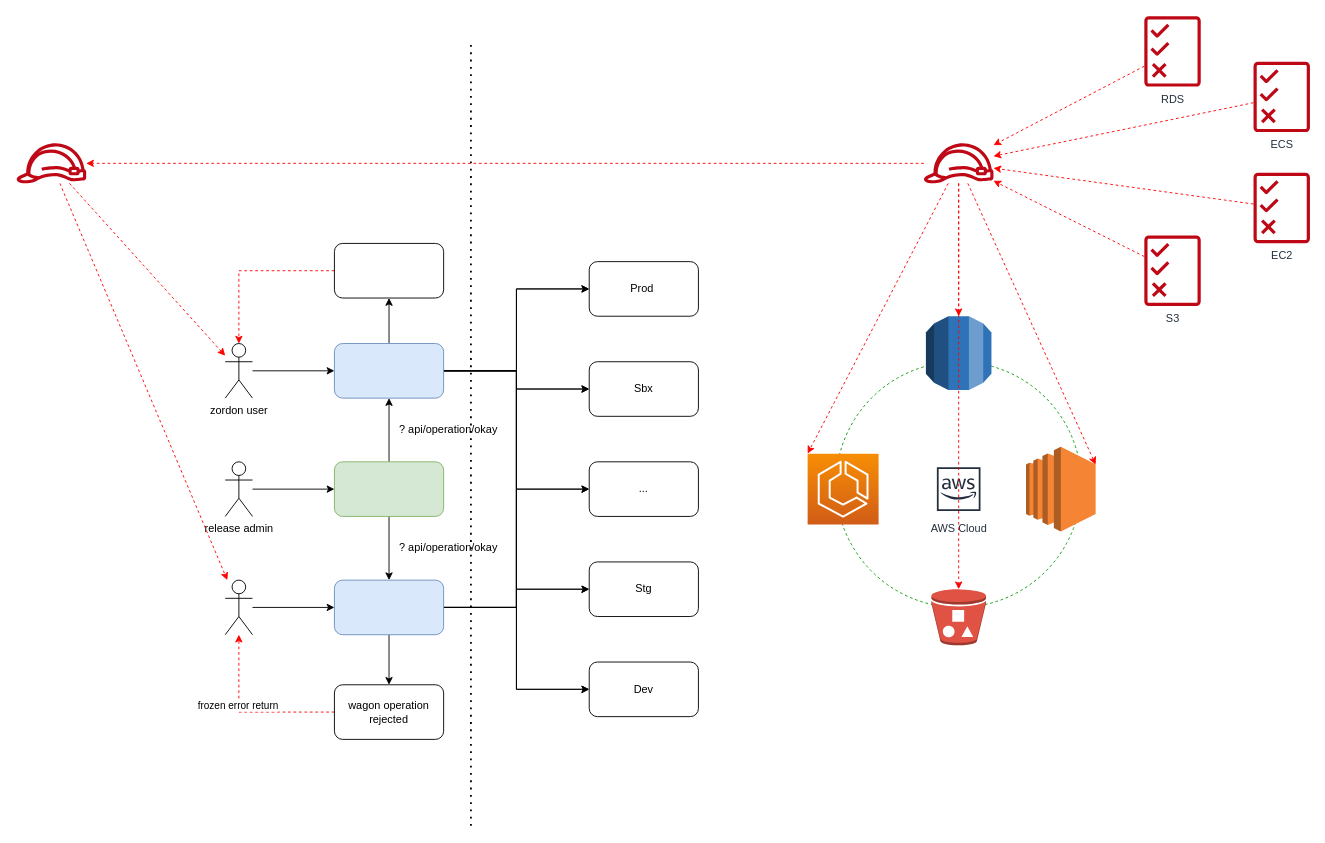
This 1325x843 diagram has some shape labels left out. The shapes that lost their labels are listed below. From the top down, each one's box as (x1, y1, x2, y2) in pixels, then its label:
(15, 143, 86, 183): Assumed Role
(923, 143, 994, 183): IAM Role
(334, 243, 444, 298): zordon operation rejected
(334, 343, 444, 398): zordon
(334, 461, 444, 516): release operation controller
(224, 579, 253, 635): wagon user
(334, 579, 444, 635): wagon
